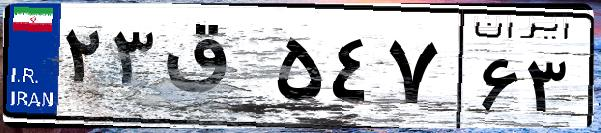2: (57, 26, 110, 100)
3: (525, 38, 570, 115), (110, 28, 158, 98)
4: (330, 28, 385, 110)
5: (270, 28, 330, 110)
6: (475, 38, 525, 113)
7: (385, 28, 445, 110)
ق: (158, 20, 270, 120)
